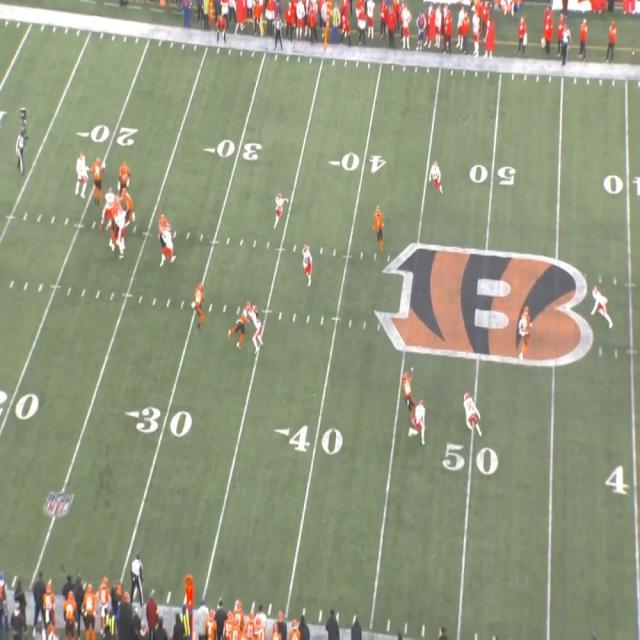db: (408, 401, 426, 444), (464, 390, 476, 437), (593, 288, 608, 324), (276, 192, 288, 225), (432, 163, 442, 194)
lb: (250, 308, 262, 356), (300, 245, 312, 283)
skill: (520, 304, 531, 361), (400, 369, 414, 408), (375, 207, 386, 254), (194, 284, 206, 325), (238, 302, 249, 346)
